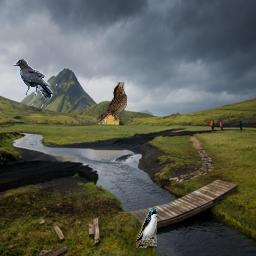Crow: (13, 59, 53, 98)
Sparrow: (96, 82, 127, 122)
Swallow: (136, 208, 157, 248)
